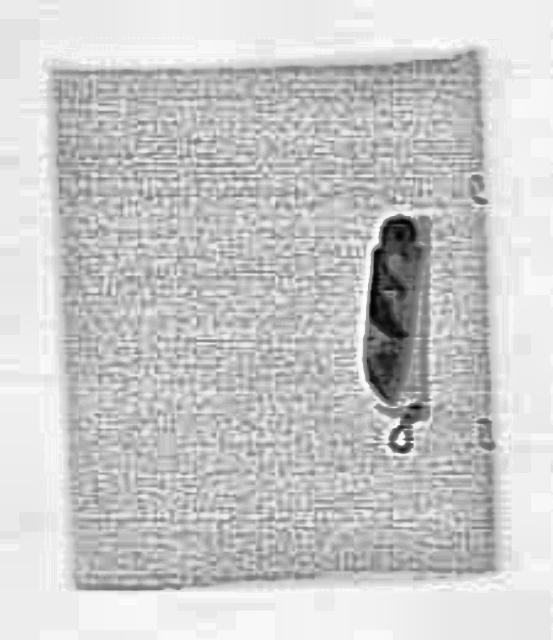Knife: (354, 210, 422, 406)
